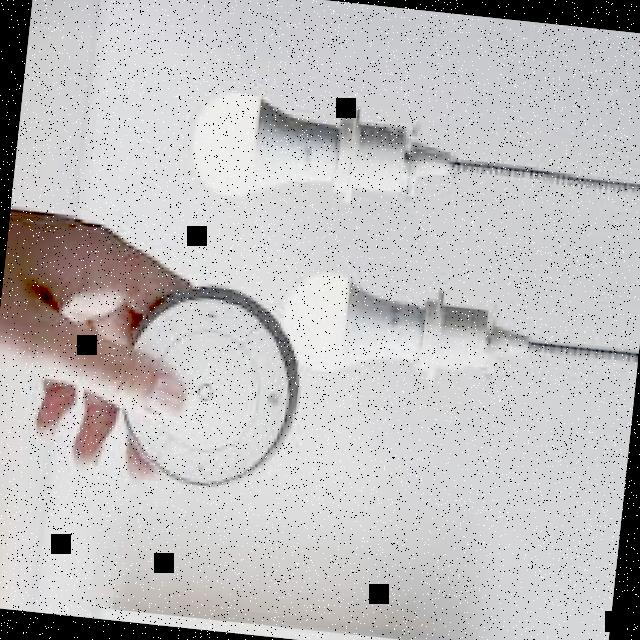light_bulb: (158, 65, 458, 232), (264, 246, 544, 408)
